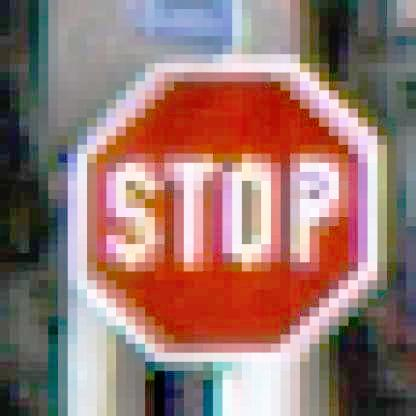Stop Sign: (68, 58, 390, 365)
